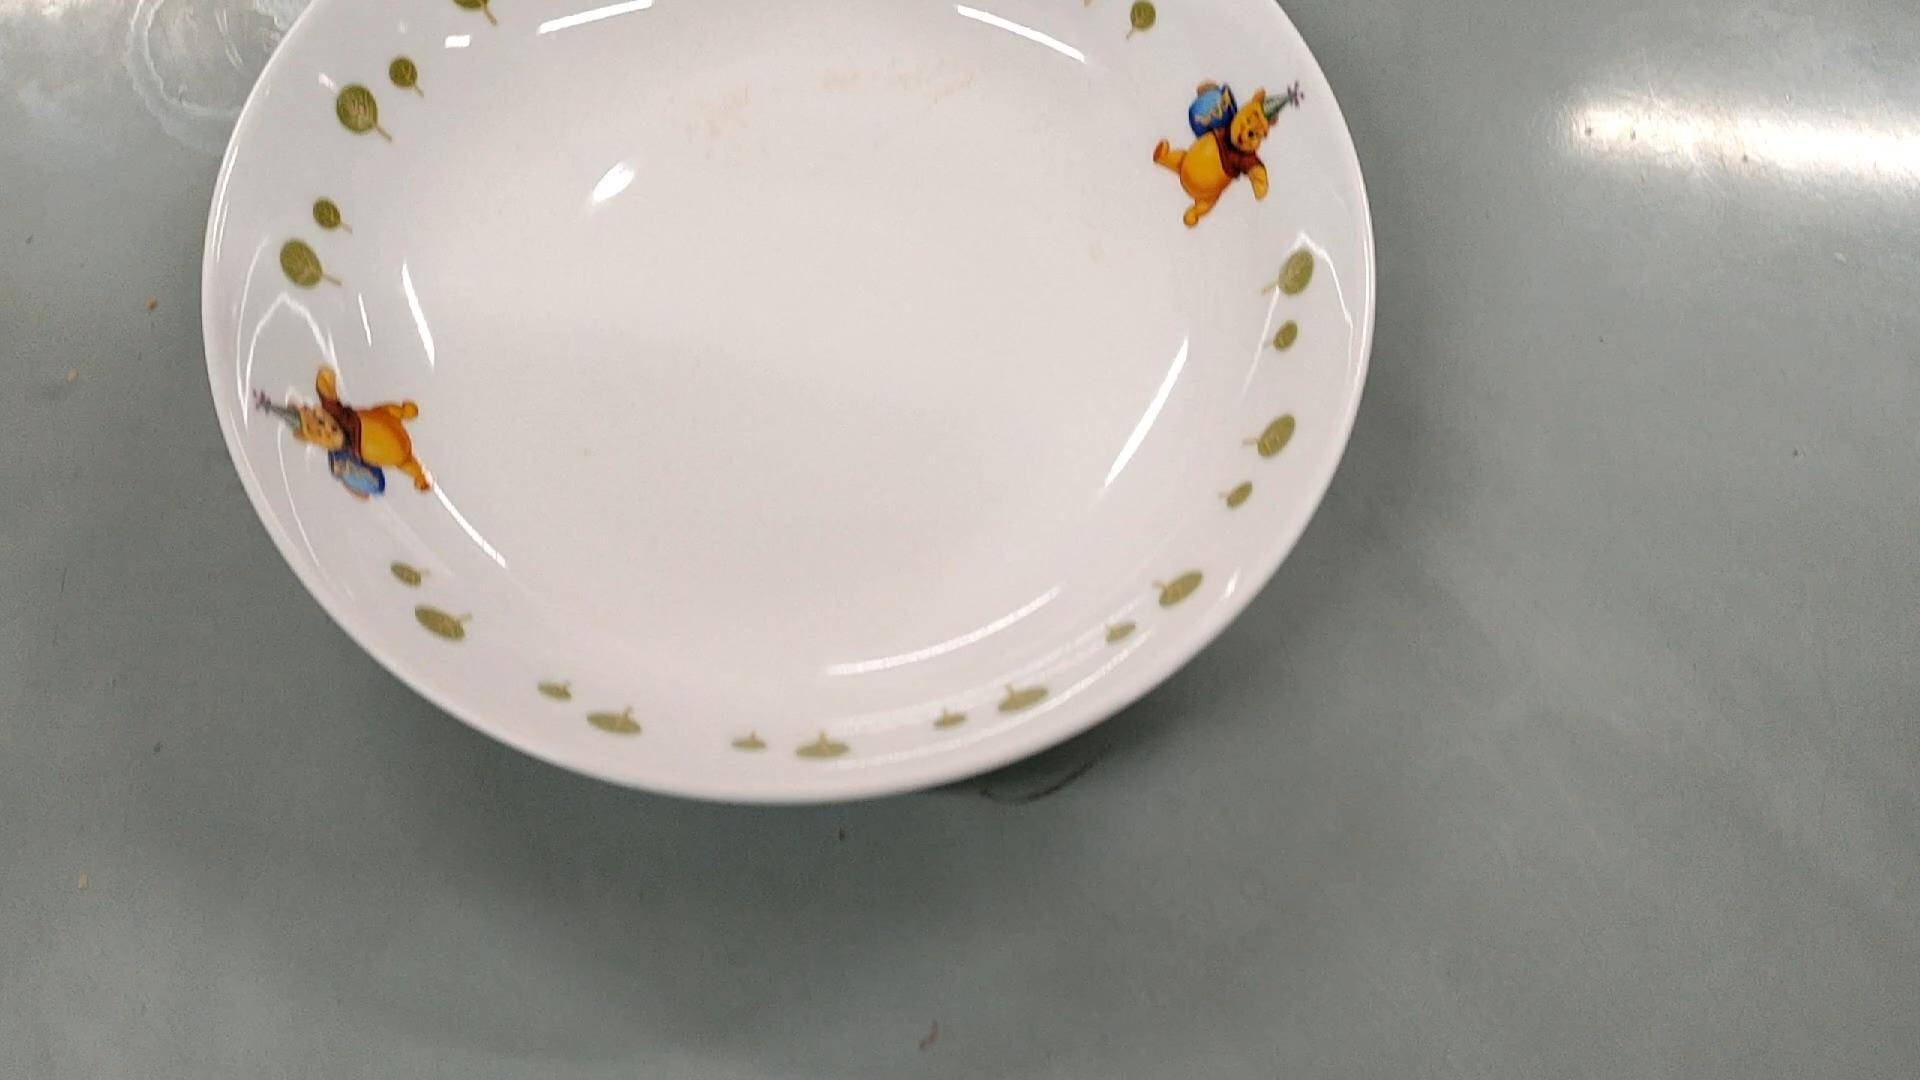plate: (203, 0, 1369, 794)
